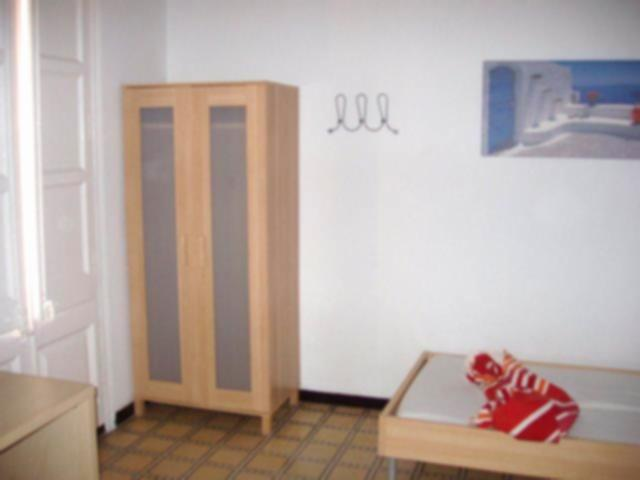Armario: (130, 93, 299, 432)
Puerta: (5, 4, 106, 384)
